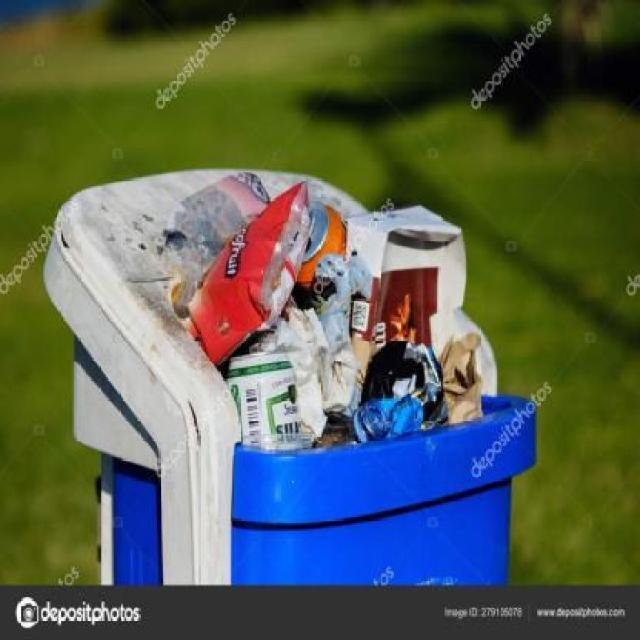garbage: (131, 183, 484, 426)
